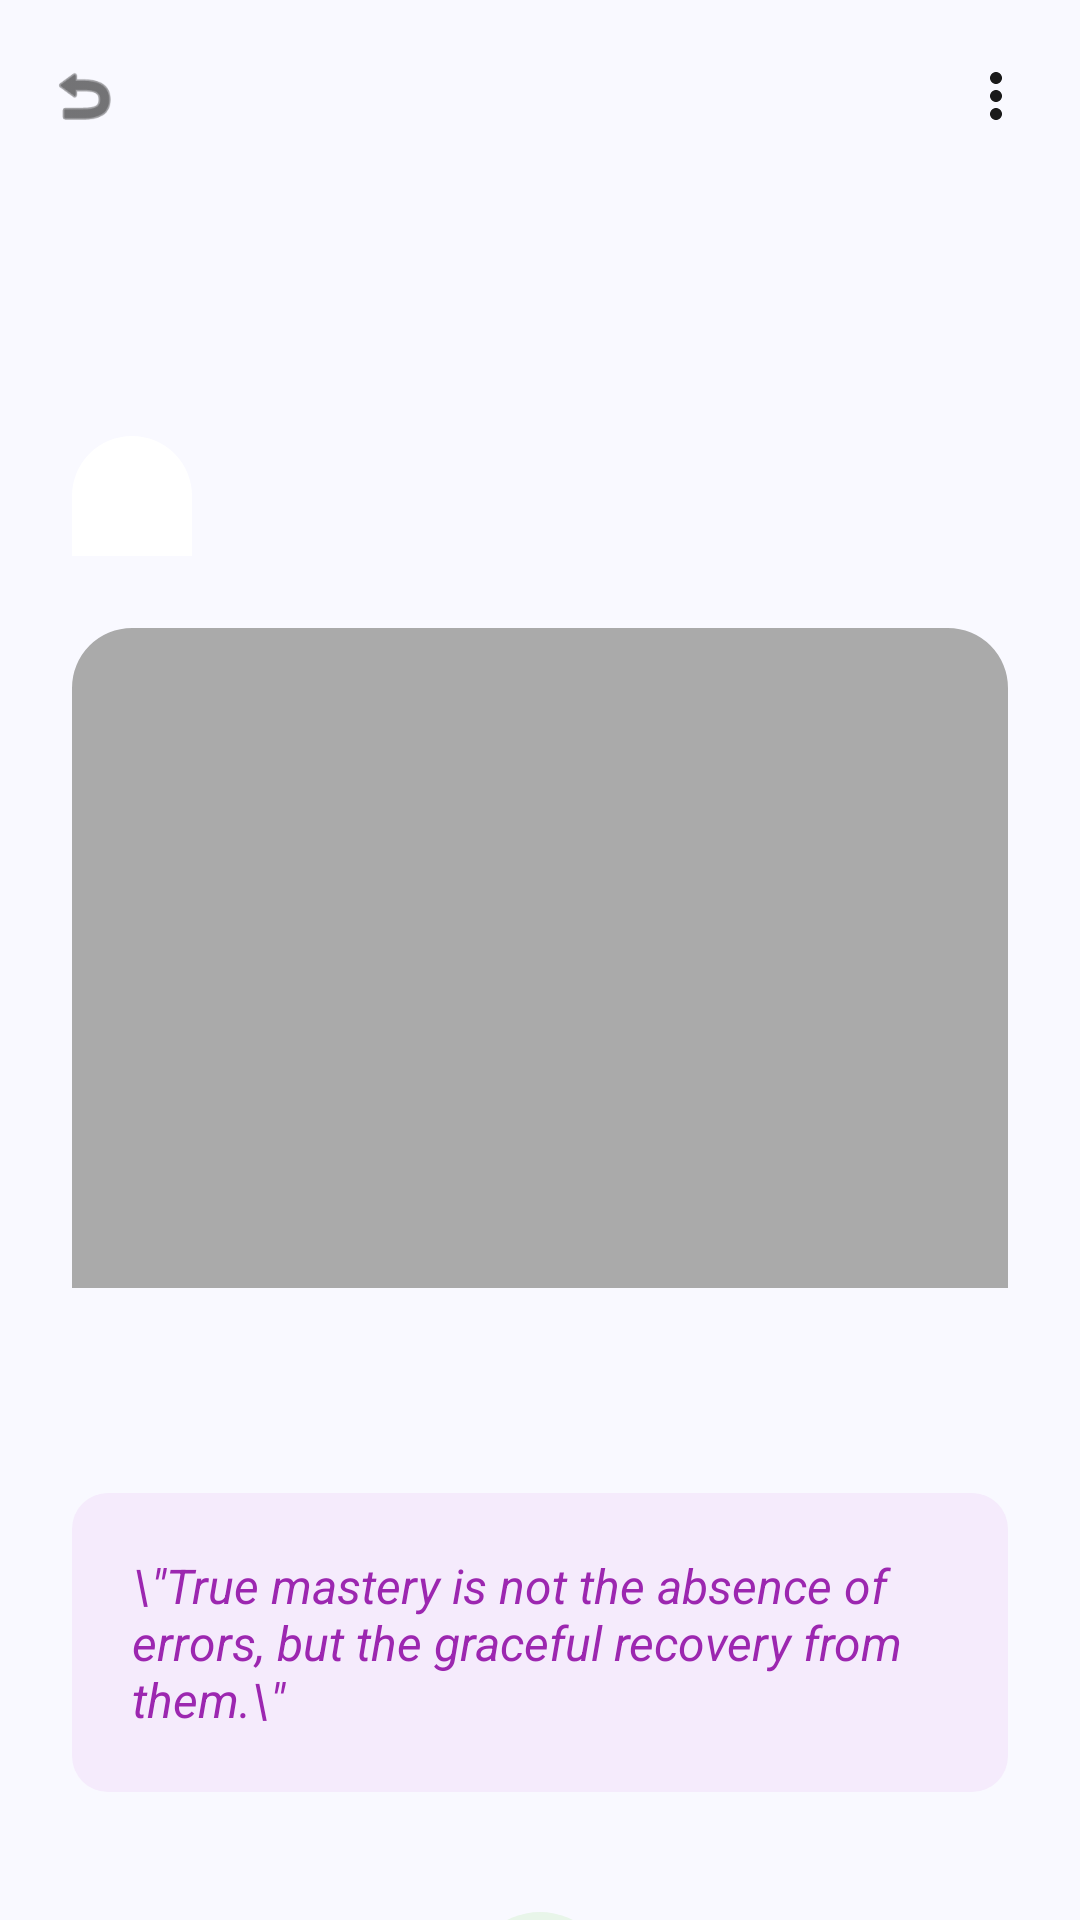

Icons on this 1080*1920 Android screen, each with the point to tap as (x,y):
more vert: (996,96)
revert: (85,96)
